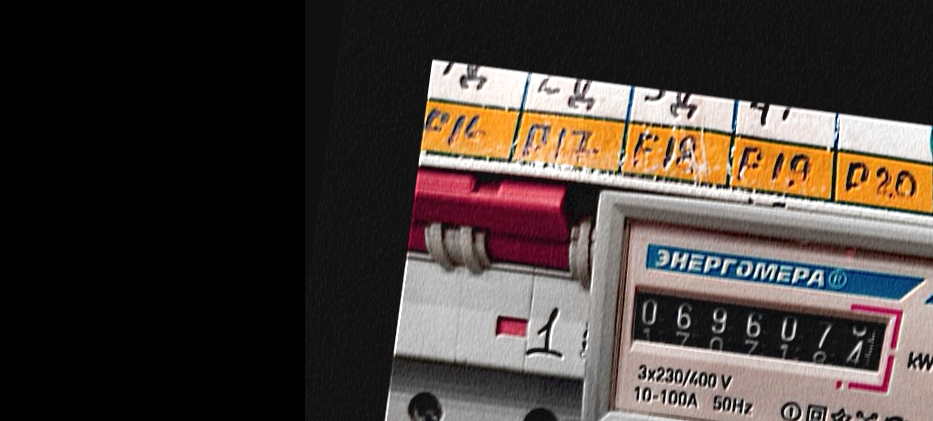0: (640, 294, 665, 327), (781, 312, 804, 343)
4: (846, 336, 868, 367)
6: (745, 307, 769, 341), (676, 299, 699, 330)
7: (816, 316, 838, 349)
9: (711, 304, 734, 335)
screen: (618, 266, 910, 395)
